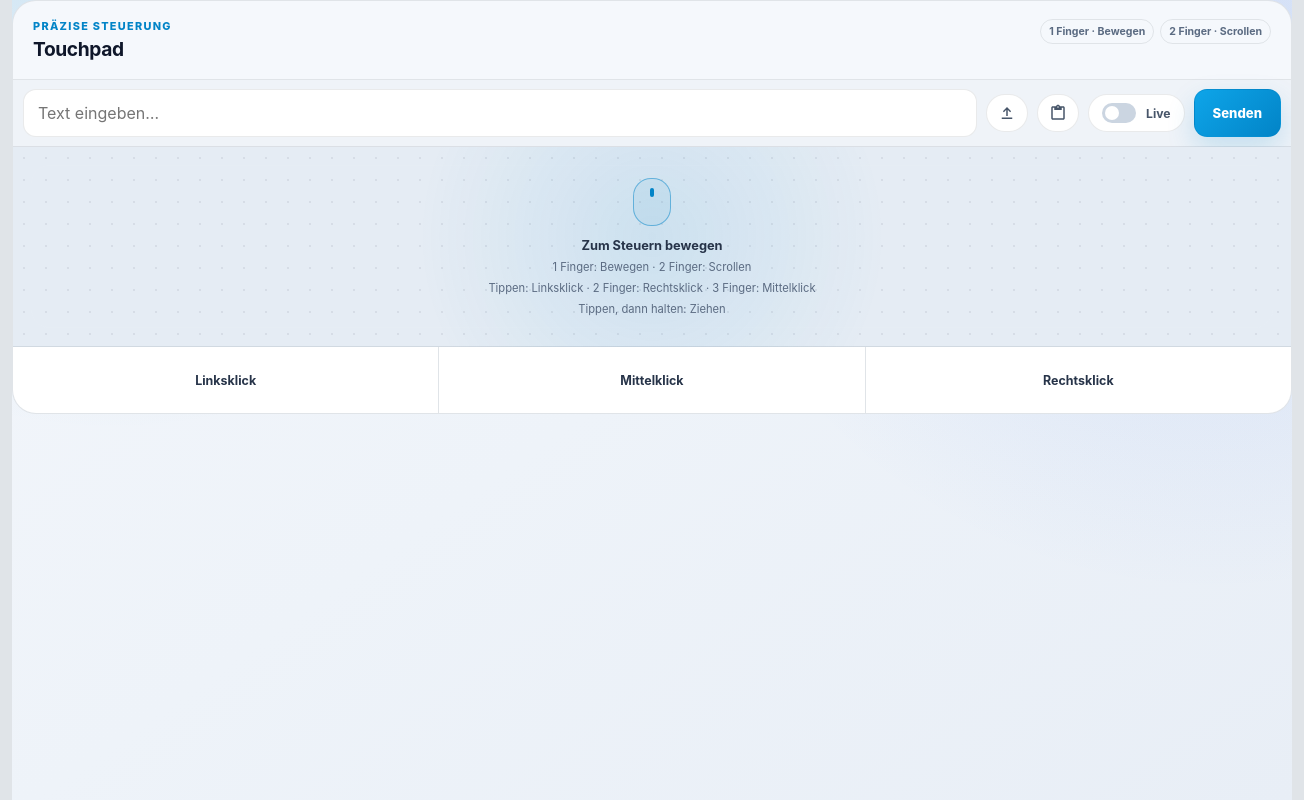
Test case: TouchpadComponent › opens the paste field directly while the server platform is unknown
Click the button named "Zwischenablage senden": click(1058, 113) [1037,94,1079,132]
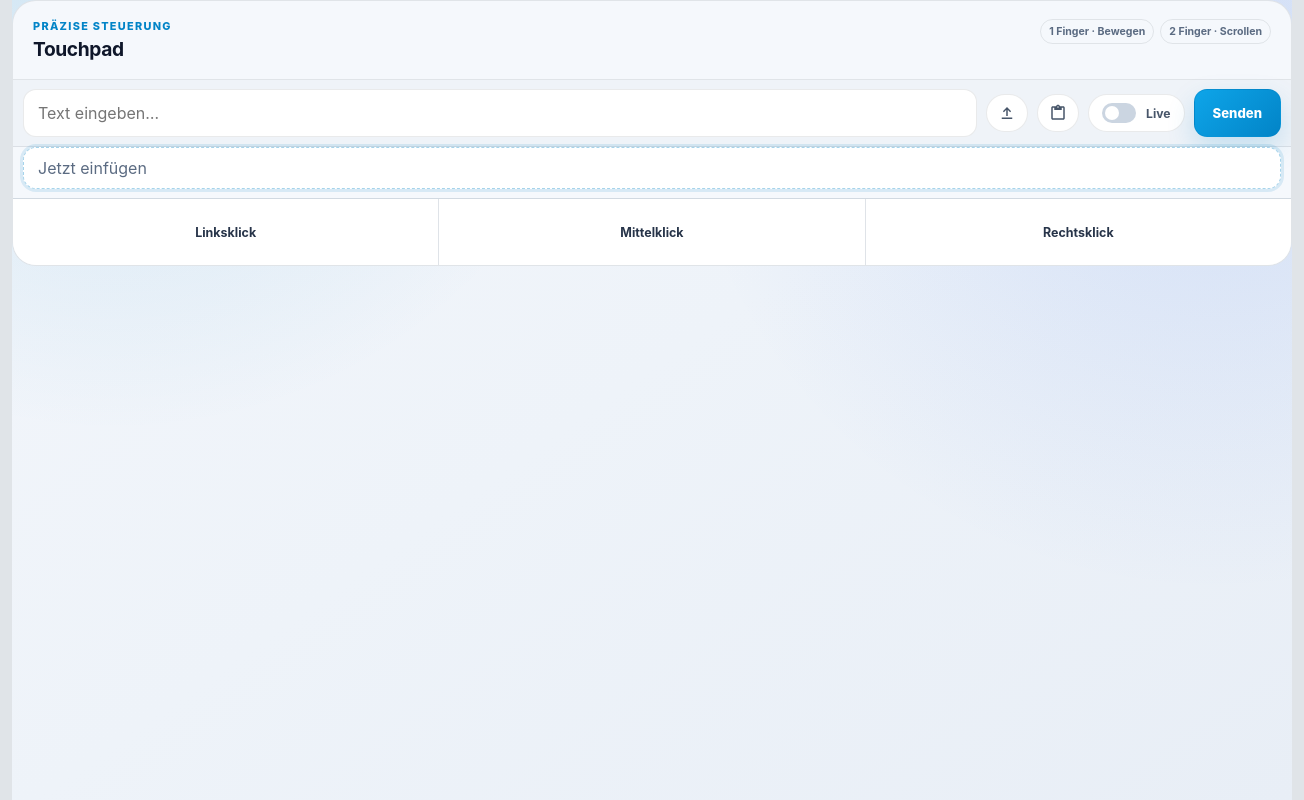
Result: the field with class "clipboard-paste-target" is shown at [23,147,1281,189]
